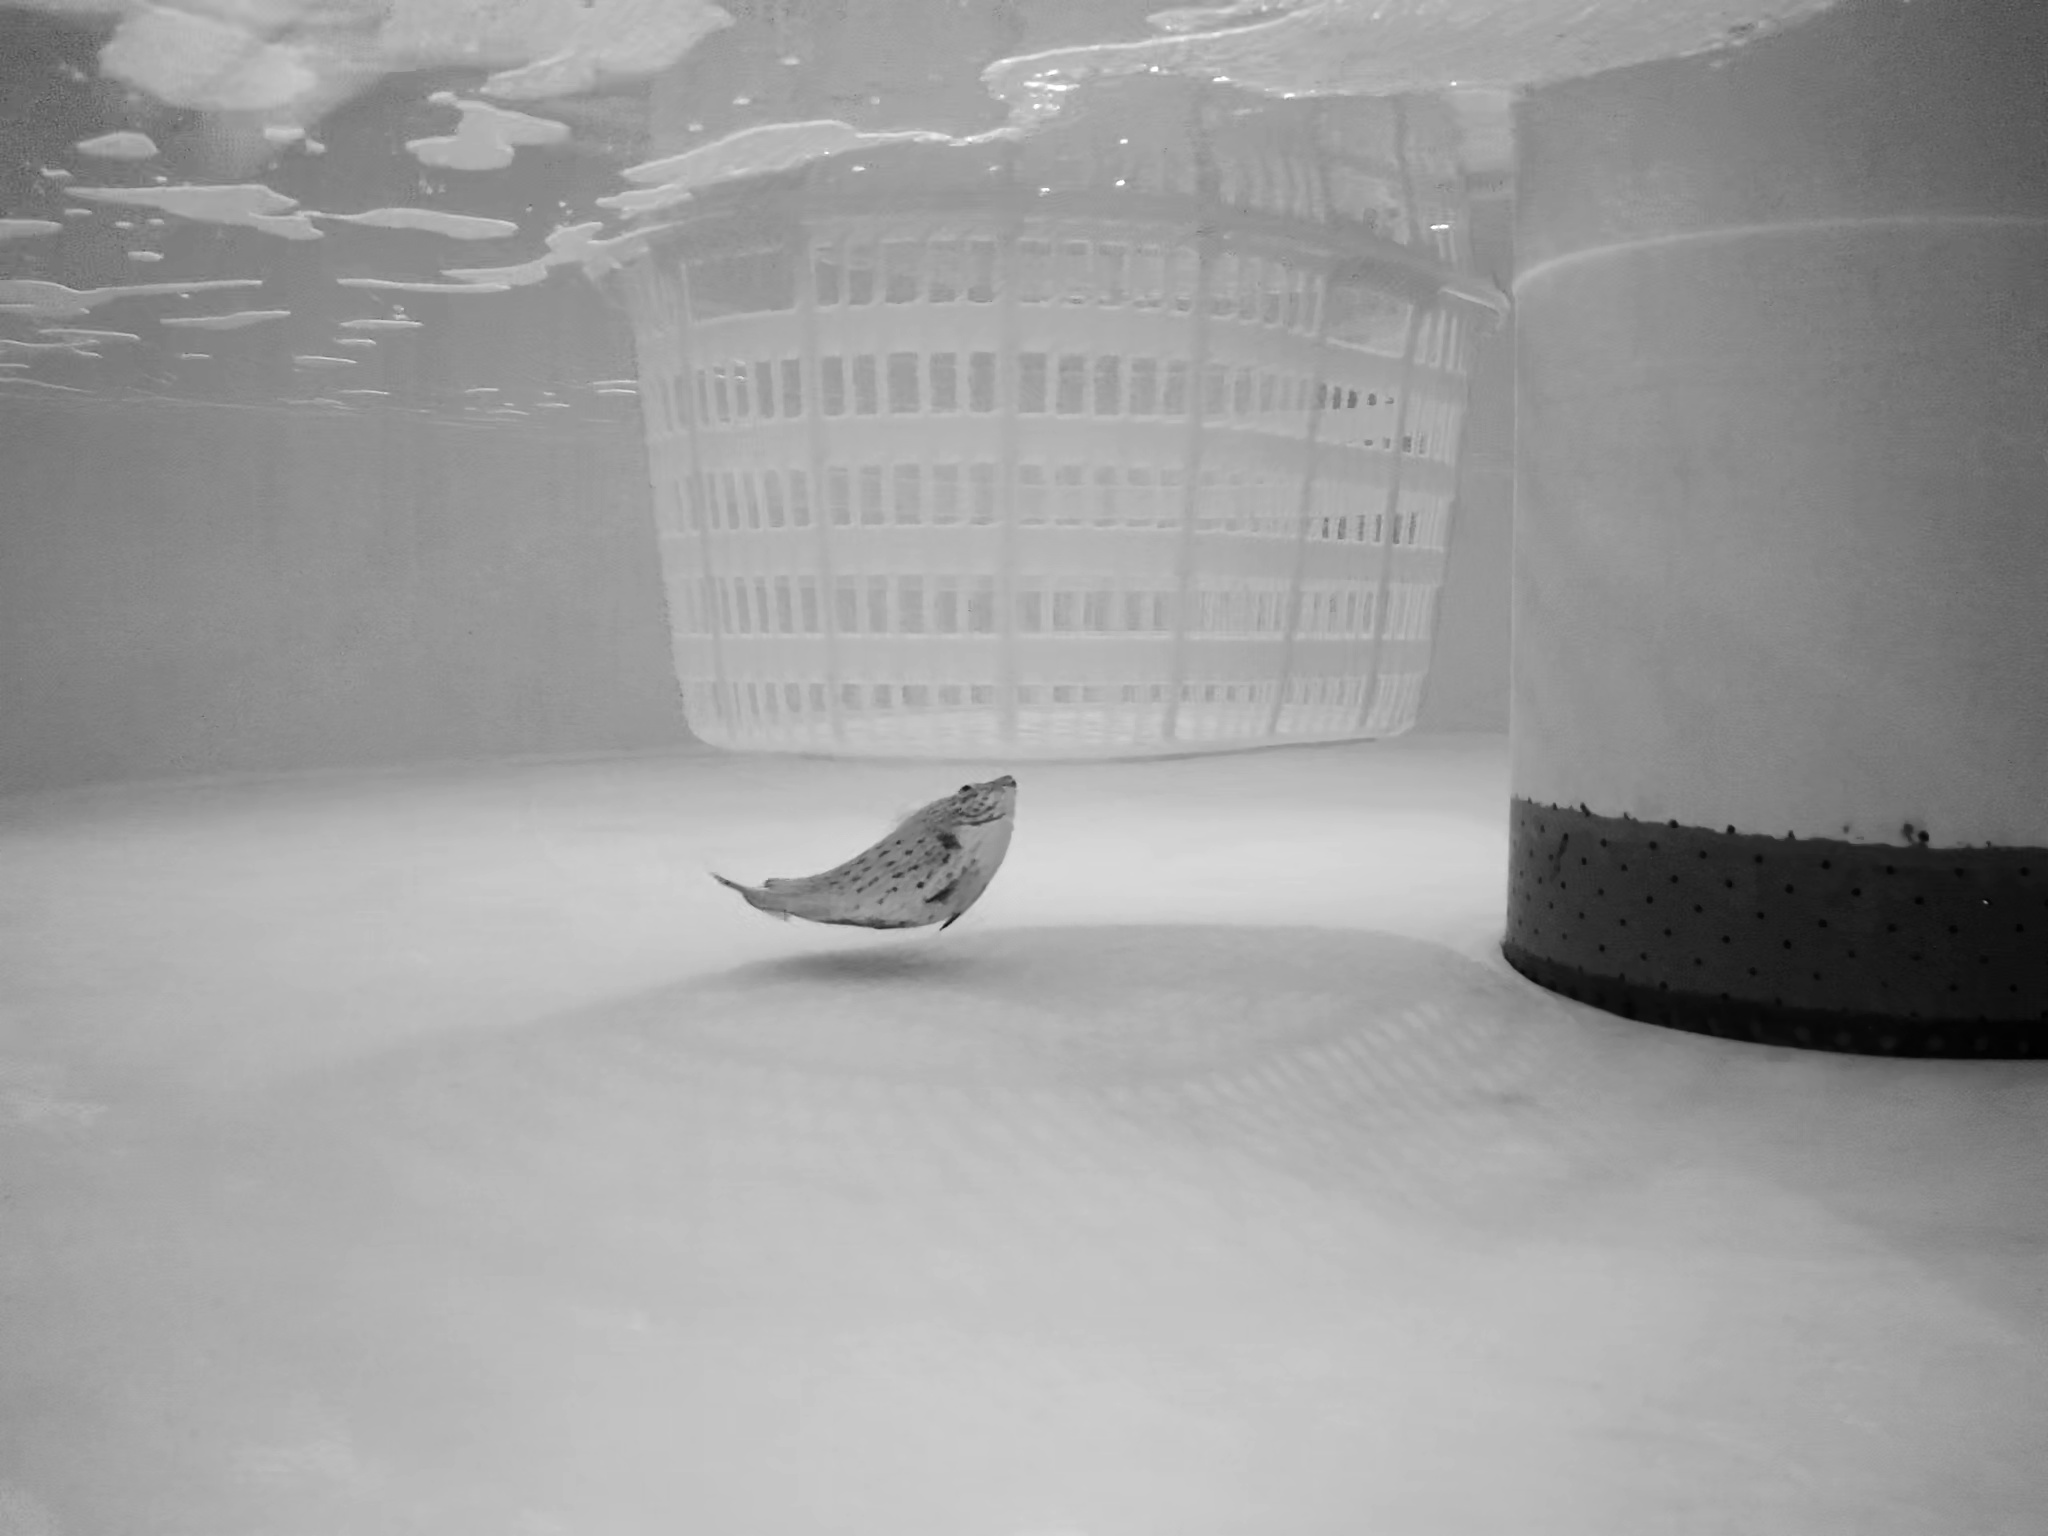fish: (732, 773, 1021, 942)
